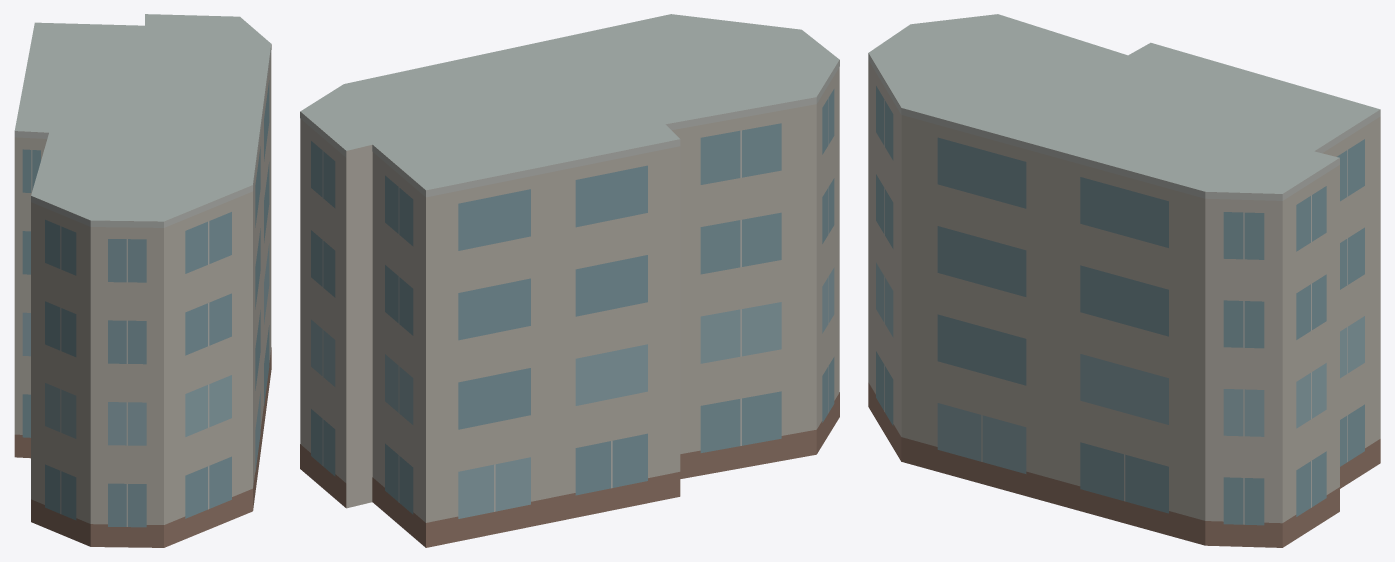
Rendered from survey-upis-33027760.glb.
3 views of the same model, side by side, from view 1: azimuth 30°, elevation 25°; view 2: azimuth 150°, elevation 25°; view 3: azimuth 270°, elevation 25° (orthographic). The views are drawn at different scales.
Visible parts, largest first — view 1: survey-upis-33027760.tmp; view 2: survey-upis-33027760.tmp; view 3: survey-upis-33027760.tmp.
Part boxes in pixels (bbox=[...]): survey-upis-33027760.tmp: bbox=[14, 14, 271, 547]; survey-upis-33027760.tmp: bbox=[300, 14, 839, 547]; survey-upis-33027760.tmp: bbox=[868, 14, 1380, 547].
Size of the model in its own units: 13.53 by 12.39 by 16.26.
